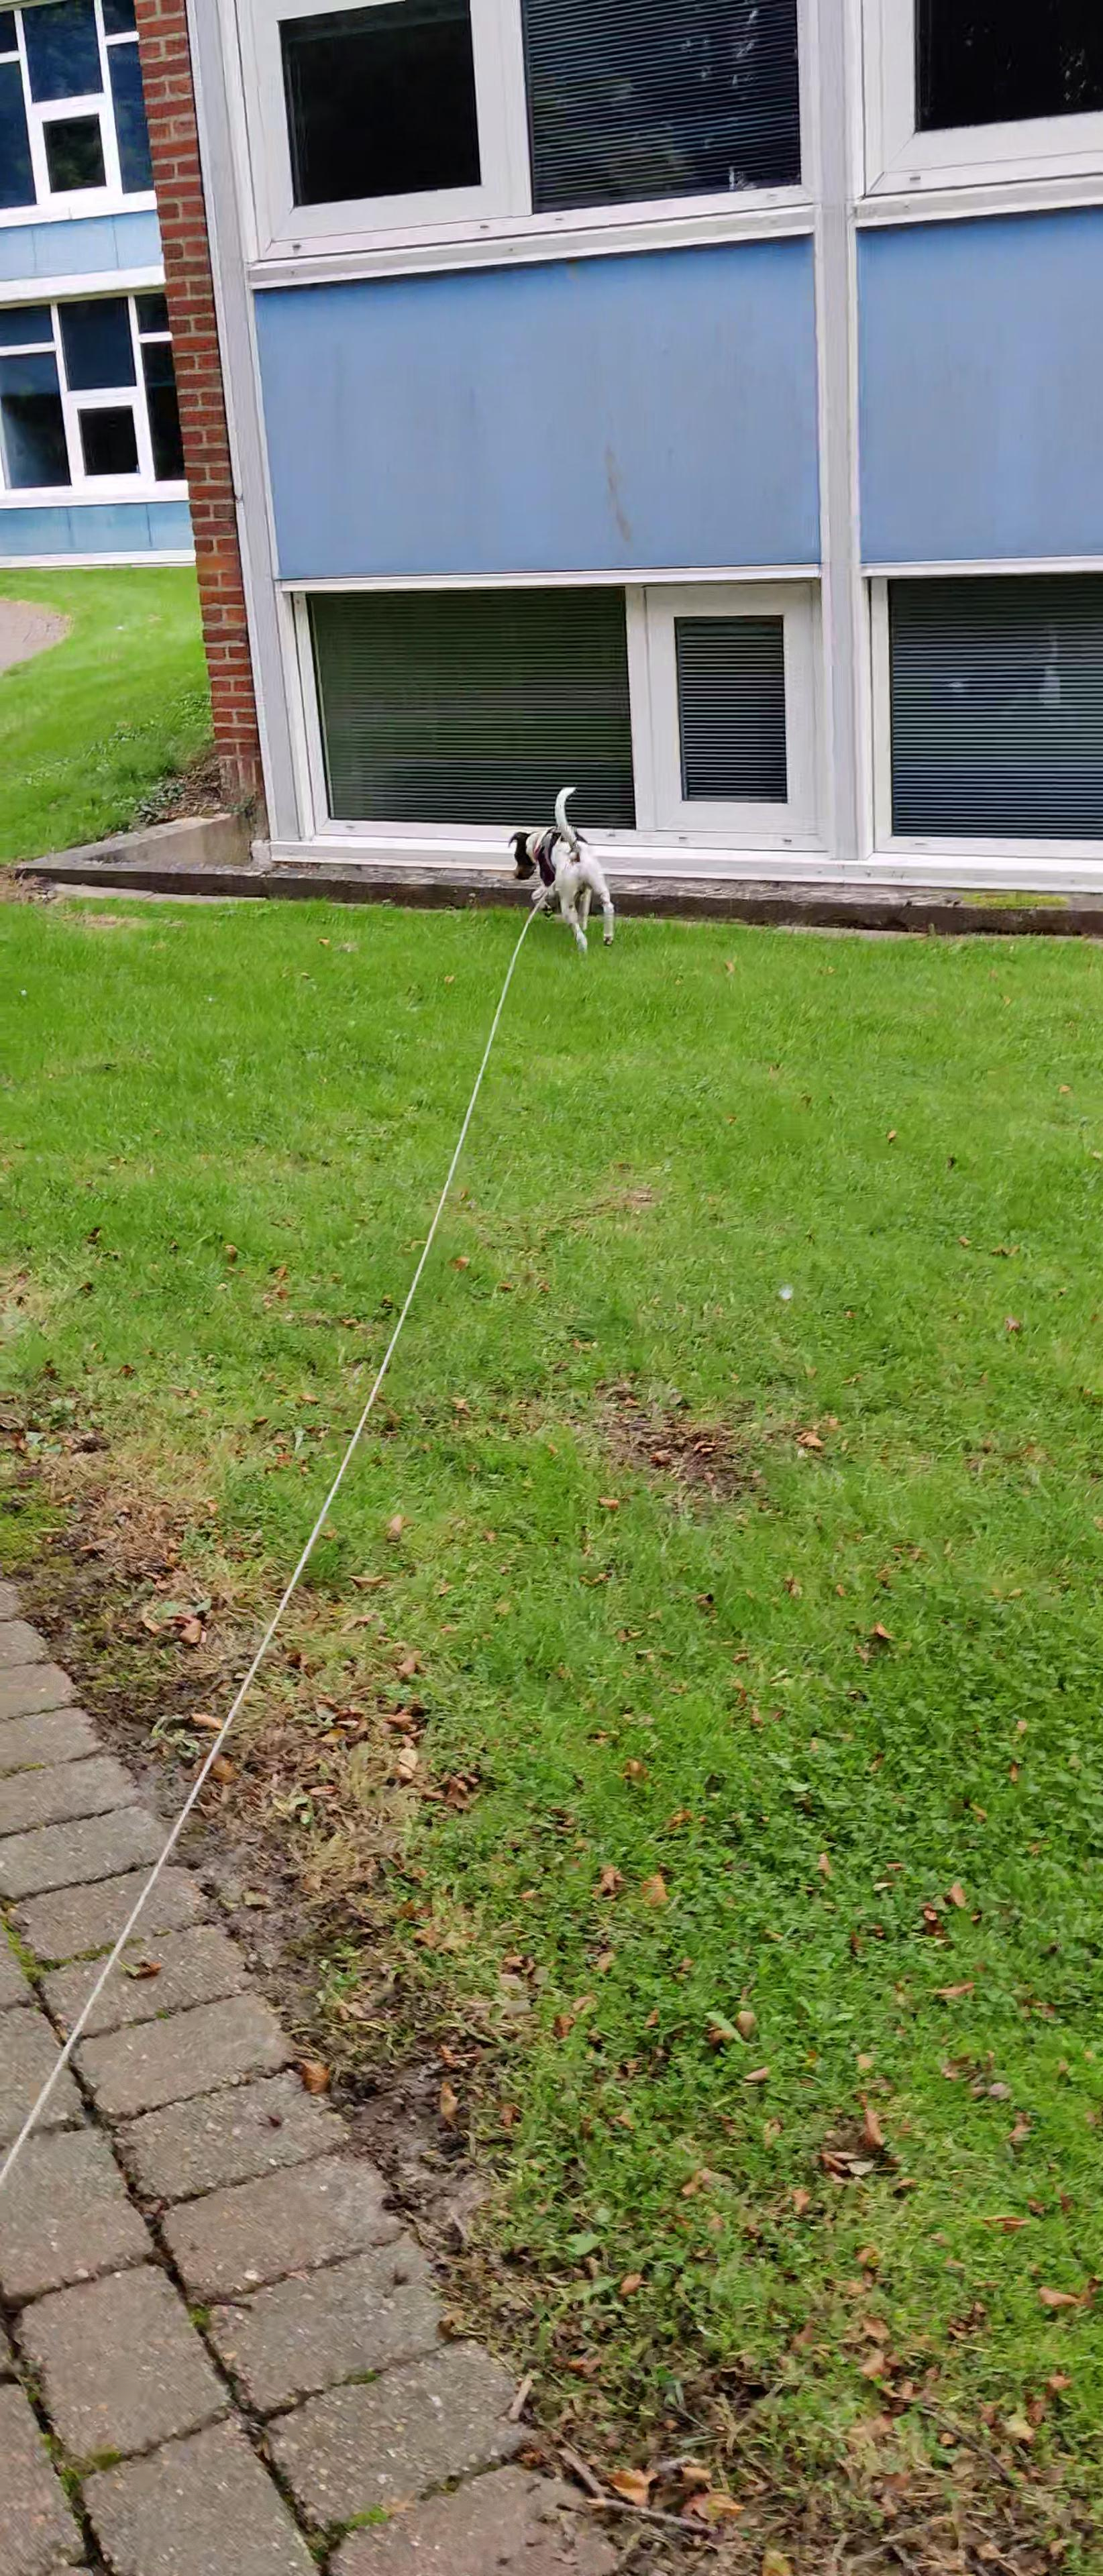Dog: (505, 787, 628, 963)
